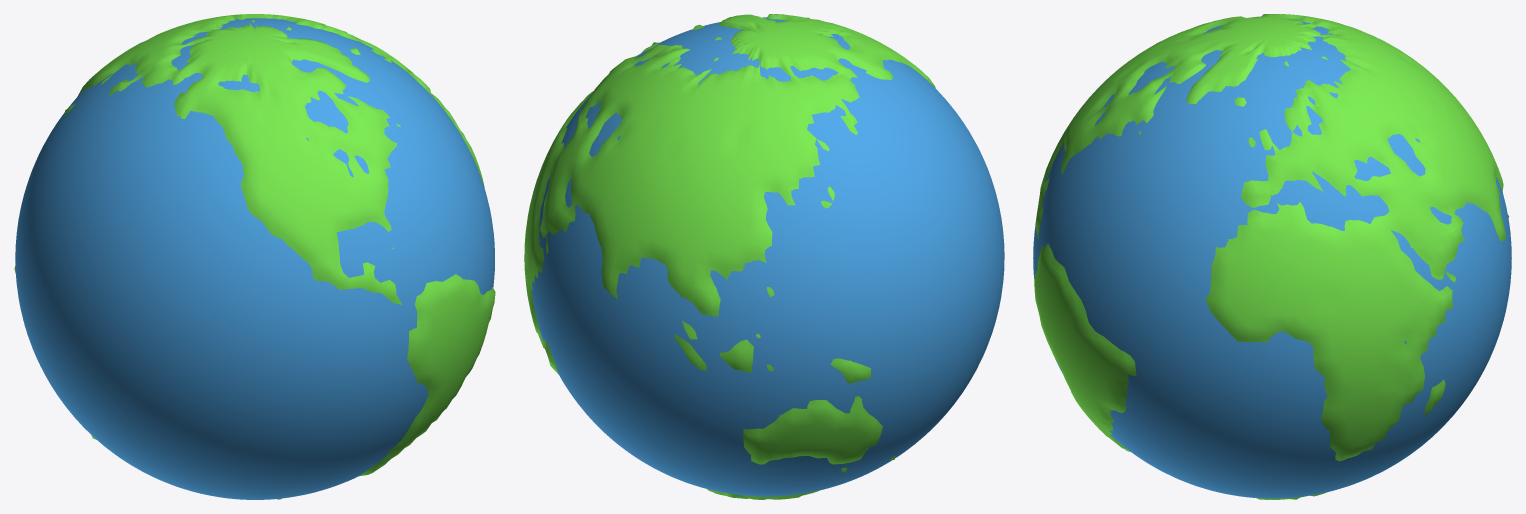
Rendered from earth-cute.glb.
The picture shows the model from 3 angles, left to right: view 1: azimuth 30°, elevation 25°; view 2: azimuth 150°, elevation 25°; view 3: azimuth 270°, elevation 25°; orthographic projection.
Parts seen in each view (by area): view 1: Sphere.002, Sphere.003; view 2: Sphere.002, Sphere.003; view 3: Sphere.002, Sphere.003.
Boxes of the visible parts, left/top/right/bottom form: Sphere.002: left=15, top=18, right=494, bottom=499; Sphere.003: left=14, top=14, right=495, bottom=499; Sphere.002: left=531, top=17, right=1004, bottom=496; Sphere.003: left=524, top=14, right=935, bottom=499; Sphere.002: left=1033, top=18, right=1511, bottom=498; Sphere.003: left=1034, top=14, right=1510, bottom=499.
Bounding box in the file's own units: 1.98 × 2.03 × 1.97.
